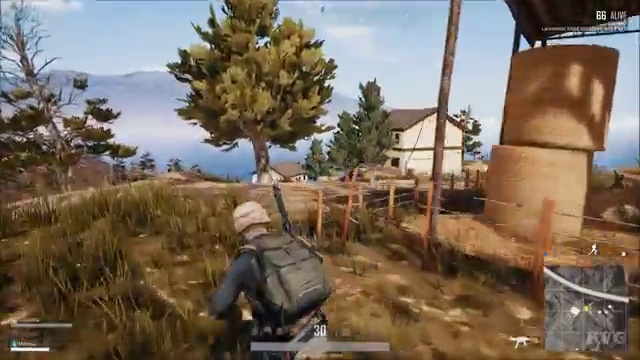Player: (183, 174, 334, 327)
